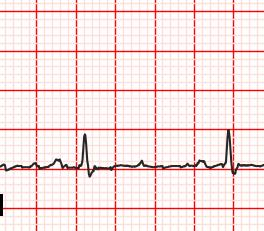Poor R Progression: (72, 130, 96, 168), (218, 128, 238, 168)
